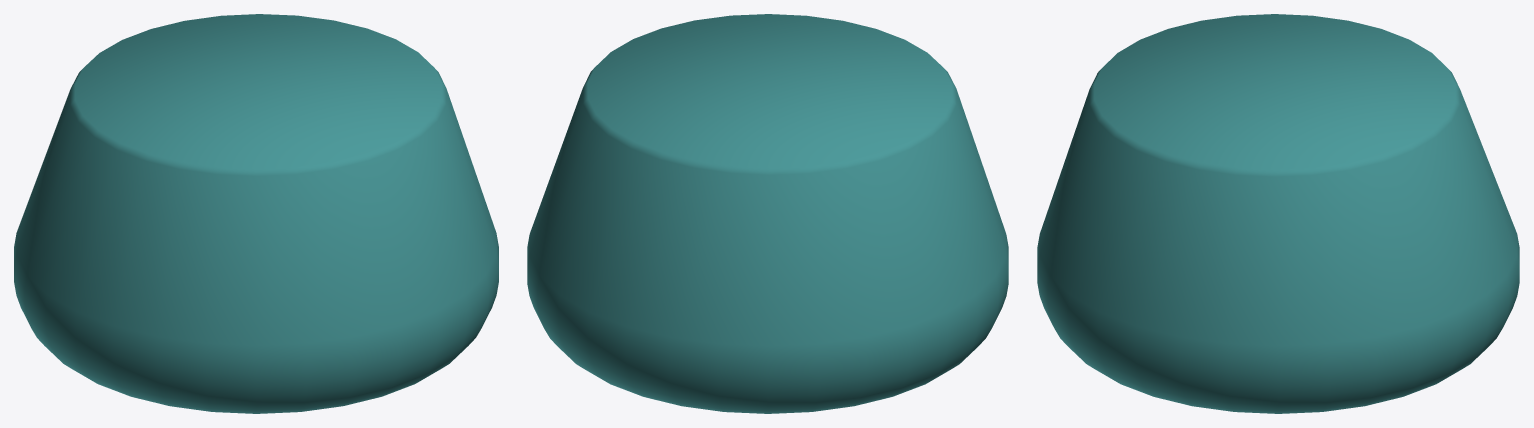
The model's file is SM_大号锥形瓶液体_004.fbx.
The picture shows the model from 3 angles, left to right: view 1: azimuth 30°, elevation 25°; view 2: azimuth 150°, elevation 25°; view 3: azimuth 270°, elevation 25°; orthographic projection.
Visible parts, largest first — view 1: SM_大号锥形瓶液体_004; view 2: SM_大号锥形瓶液体_004; view 3: SM_大号锥形瓶液体_004.
Part boxes in pixels (x1,y1,x2,y2): SM_大号锥形瓶液体_004: [14, 14, 498, 413]; SM_大号锥形瓶液体_004: [527, 14, 1008, 413]; SM_大号锥形瓶液体_004: [1037, 14, 1519, 413].
Size of the model in its own units: 0.2159 by 0.1171 by 0.2147.
